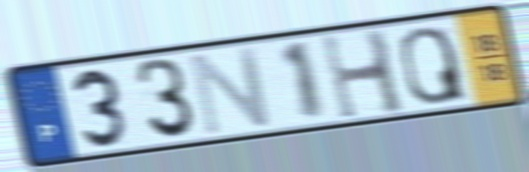1: (279, 37, 327, 125)
3: (133, 56, 199, 142), (70, 65, 127, 152)
H: (317, 26, 411, 124)
N: (186, 43, 276, 139)
Q: (397, 24, 471, 107)
